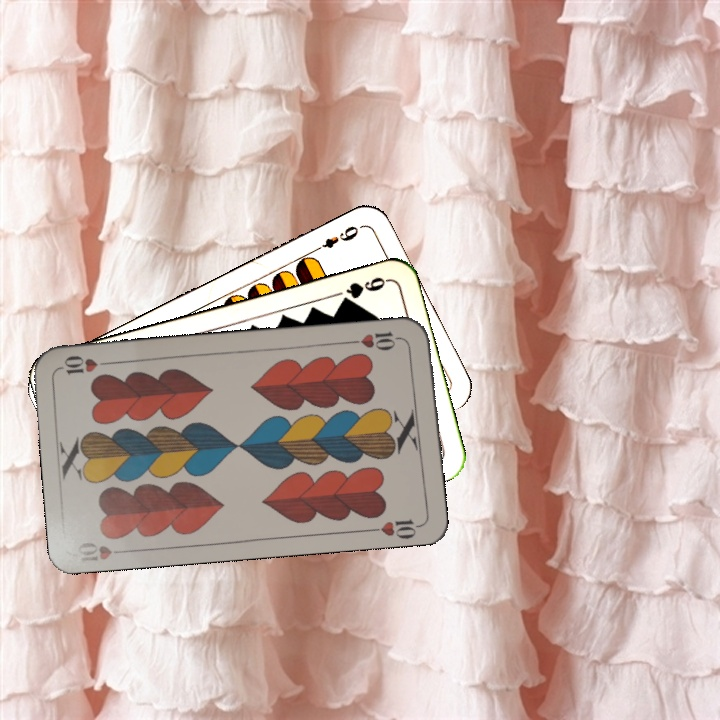E9: (308, 221, 362, 255)
G9: (336, 273, 391, 308)
H10: (347, 327, 406, 353), (74, 538, 133, 564)
